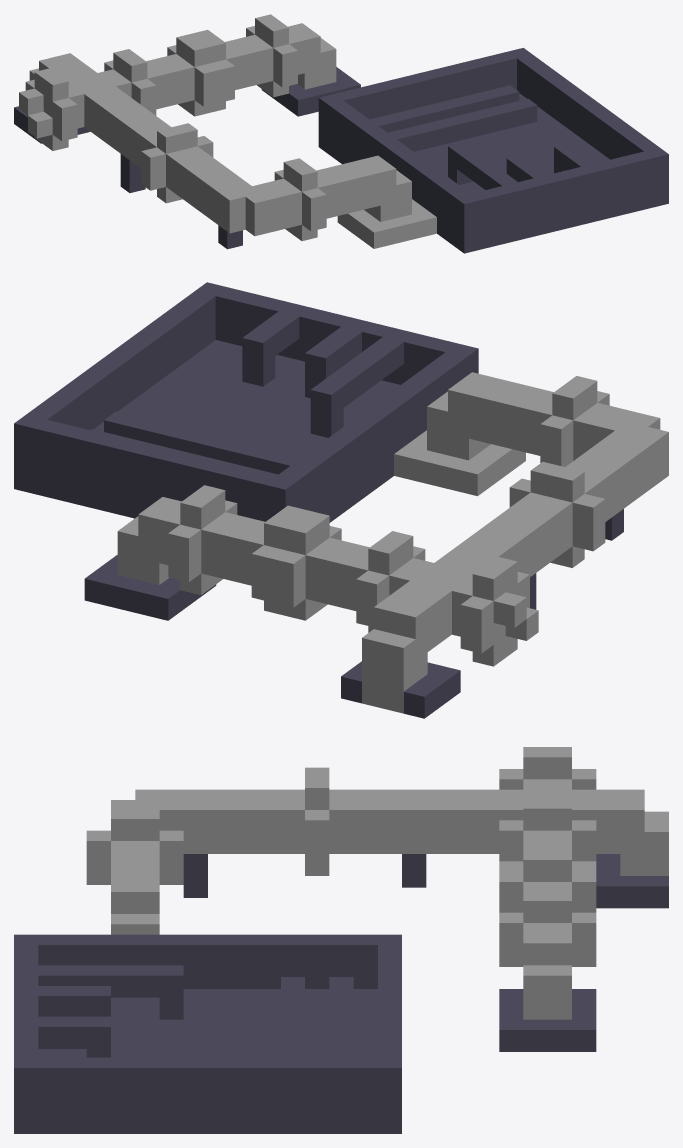
File: rurki_dach.dae
3 renders of one model, top to bottom at view 1: azimuth 30°, elevation 25°; view 2: azimuth 150°, elevation 25°; view 3: azimuth 270°, elevation 25°, orthographic. The views are drawn at different scales.
Parts seen in each view (by area): view 1: Content; view 2: Content; view 3: Content.
Boxes of the visible parts, x1,y1,x2,y2 form: Content: (14, 14, 668, 253); Content: (14, 282, 668, 718); Content: (14, 747, 668, 1133).
Size of the model in its own units: 28 by 5 by 27.
Materials: 1 (1 with a texture image).
